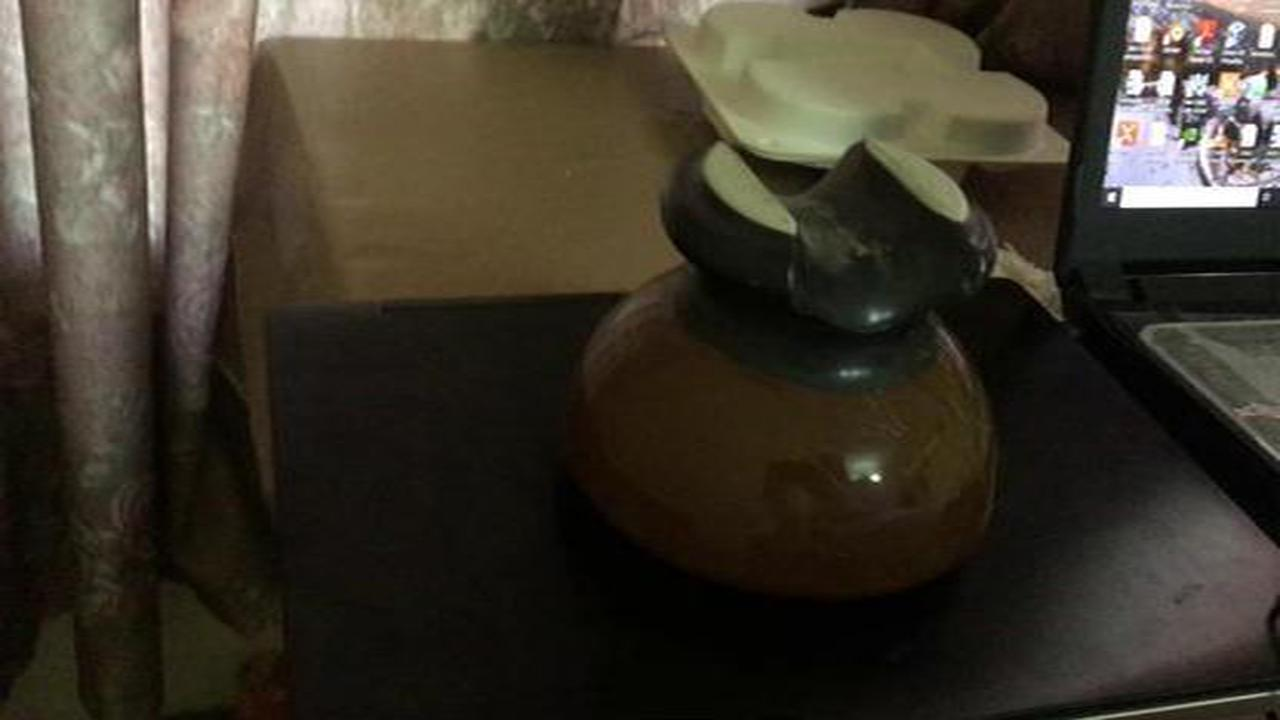insulator_pin: (533, 127, 1056, 611)
